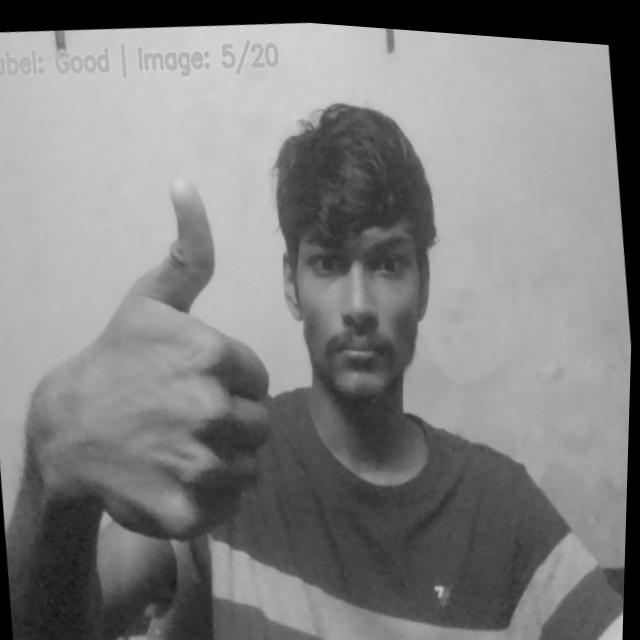Good: (31, 143, 296, 541)
